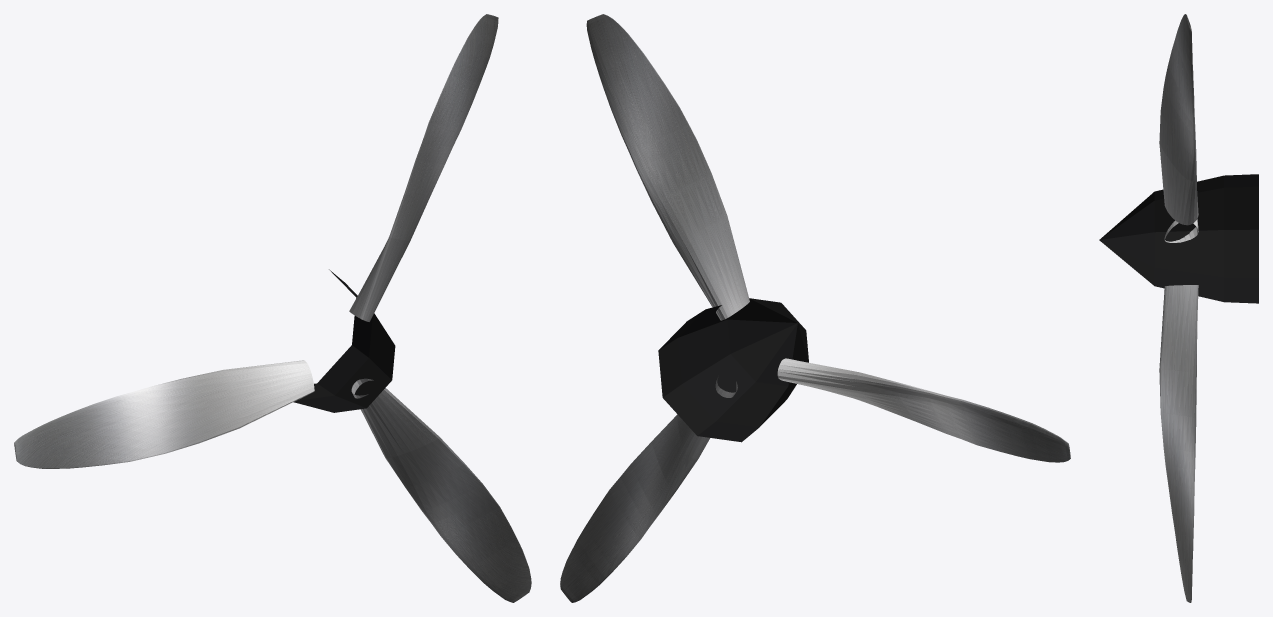
File: Helix.obj
3 views of the same model, side by side, from view 1: azimuth 30°, elevation 25°; view 2: azimuth 150°, elevation 25°; view 3: azimuth 270°, elevation 25° (orthographic). The views are drawn at different scales.
Parts seen in each view (by area): view 1: HeliceE, HeliceI; view 2: HeliceE, HeliceI; view 3: HeliceE, HeliceI.
Part boxes in pixels (x1=…): HeliceE: x1=14, y1=14, x2=531, y2=602; HeliceI: x1=293, y1=269, x2=395, y2=412; HeliceE: x1=560, y1=14, x2=1070, y2=602; HeliceI: x1=658, y1=298, x2=808, y2=442; HeliceE: x1=1159, y1=14, x2=1198, y2=602; HeliceI: x1=1099, y1=174, x2=1258, y2=303.
Bounding box in the file's own units: 2.23 × 2.48 × 0.6248.
Materials: 2 (2 with a texture image).
